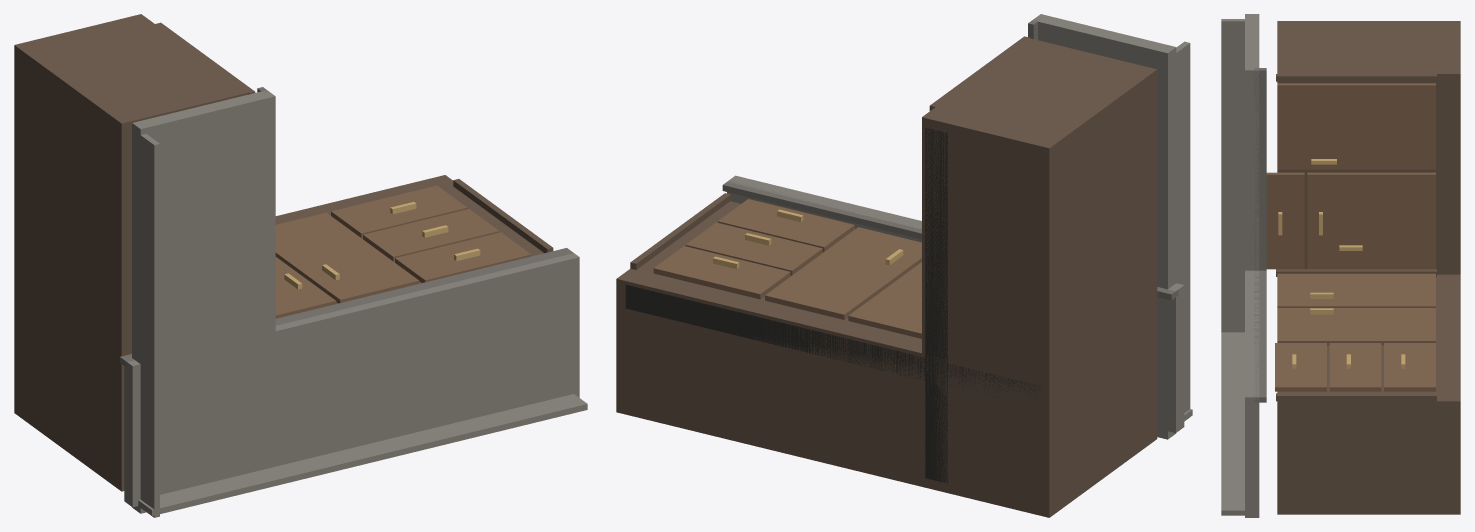
File: staff_room_top_left_counter.glb
3 views of the same model, side by side, from view 1: azimuth 30°, elevation 25°; view 2: azimuth 150°, elevation 25°; view 3: azimuth 270°, elevation 25° (orthographic). The views are drawn at different scales.
Visible parts, largest first — view 1: North_StoneTop, West_Cabinet_Carcass, West_StoneTop, North_Cabinet_Carcass, North_Backsplash, West_Backsplash, North_Door_0_1, North_Drawer_3, North_Drawer_2, North_Drawer_1, North_Front_Edge, North_Door_0_0 (+1 smaller); view 2: West_Cabinet_Carcass, North_Cabinet_Carcass, West_StoneTop, West_ToeKick, North_ToeKick, North_Door_0_1, North_StoneTop, West_Backsplash, North_Drawer_1, North_Drawer_2, North_Drawer_3, North_Door_0_0 (+2 smaller); view 3: North_Cabinet_Carcass, West_Cabinet_Carcass, West_CupboardDoor, West_LowerDoor, West_Backsplash, North_Door_0_1, North_Door_0_0, North_Backsplash, West_StoneTop, West_Drawer_2, North_StoneTop, West_Drawer_1 (+9 smaller).
Boxes of the visible parts, <box> form: North_StoneTop: <box>124,253,579,507</box>; West_Cabinet_Carcass: <box>14,14,248,490</box>; West_StoneTop: <box>132,90,275,513</box>; North_Cabinet_Carcass: <box>14,175,543,491</box>; North_Backsplash: <box>138,394,587,515</box>; West_Backsplash: <box>140,134,159,517</box>; North_Door_0_1: <box>275,212,419,303</box>; North_Drawer_3: <box>395,232,531,282</box>; North_Drawer_2: <box>363,209,499,261</box>; North_Drawer_1: <box>331,185,467,238</box>; North_Front_Edge: <box>120,248,573,367</box>; North_Door_0_0: <box>275,257,336,318</box>; West_Cabinet_Carcass: <box>922,38,1157,517</box>; North_Cabinet_Carcass: <box>616,201,1157,517</box>; West_StoneTop: <box>1033,14,1176,439</box>; West_ToeKick: <box>925,128,947,483</box>; North_ToeKick: <box>625,284,1040,400</box>; North_Door_0_1: <box>765,227,921,319</box>; North_StoneTop: <box>727,175,1184,433</box>; West_Backsplash: <box>1176,41,1190,421</box>; North_Drawer_1: <box>653,246,790,299</box>; North_Drawer_2: <box>685,222,822,275</box>; North_Drawer_3: <box>717,199,854,252</box>; North_Door_0_0: <box>848,262,921,338</box>; North_Cabinet_Carcass: <box>1277,274,1460,514</box>; West_Cabinet_Carcass: <box>1277,21,1460,274</box>; West_CupboardDoor: <box>1277,83,1435,169</box>; West_LowerDoor: <box>1331,172,1435,269</box>; West_Backsplash: <box>1221,19,1244,332</box>; North_Door_0_1: <box>1277,308,1435,345</box>; North_Door_0_0: <box>1277,273,1435,307</box>; North_Backsplash: <box>1221,332,1244,515</box>; West_StoneTop: <box>1245,14,1259,270</box>; West_Drawer_2: <box>1266,172,1304,269</box>; North_StoneTop: <box>1245,270,1259,517</box>; West_Drawer_1: <box>1307,172,1345,269</box>.
Bounding box in the file's own units: 1.97 × 1.62 × 1.07.
